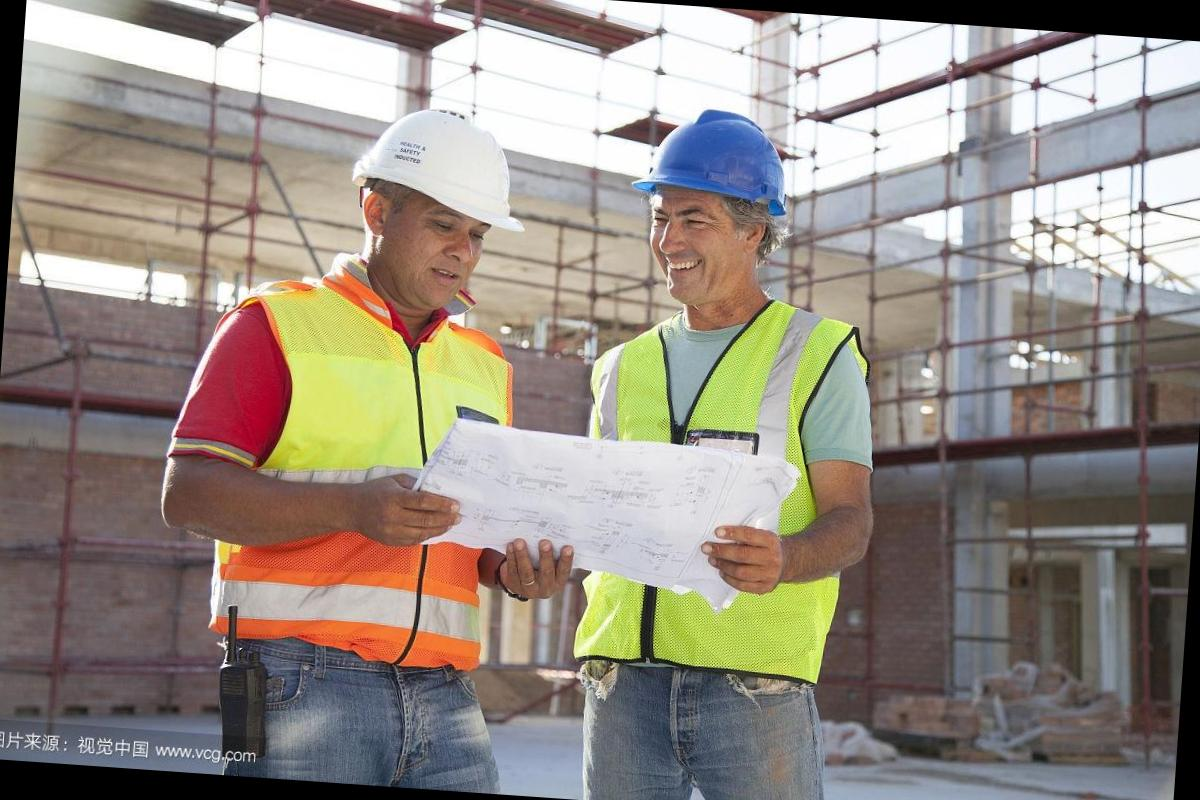Vest: (178, 266, 584, 690), (536, 293, 892, 689)
